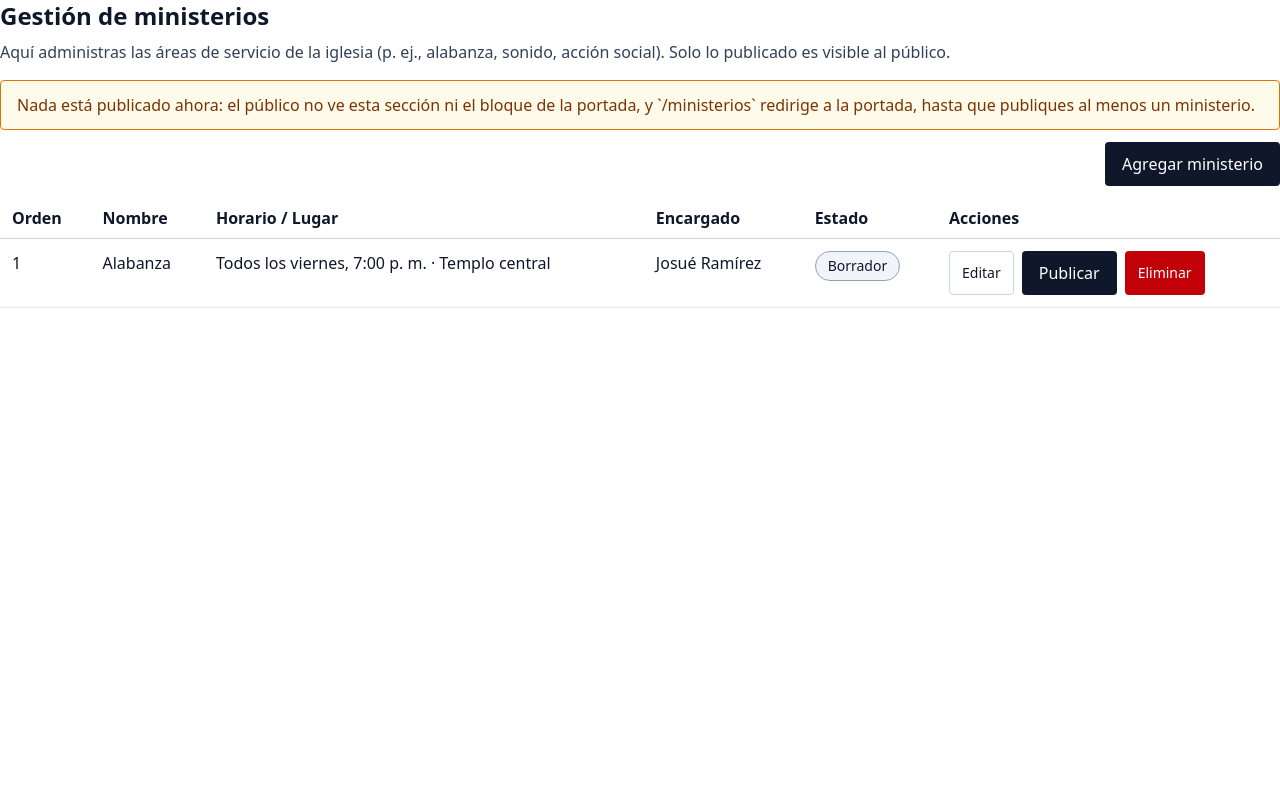
Test: MinistriesPage · listado del panel (US2/US3, ux.md §4.3) › publica y retira con confirmación suave, con sus mensajes
This screenshot has width=1280, height=800.
// La `Table` pinta tabla (escritorio) y tarjetas (móvil): se opera la tabla.
Click the button "Publicar". click: (1069, 273)
box: [1022, 251, 1117, 295]
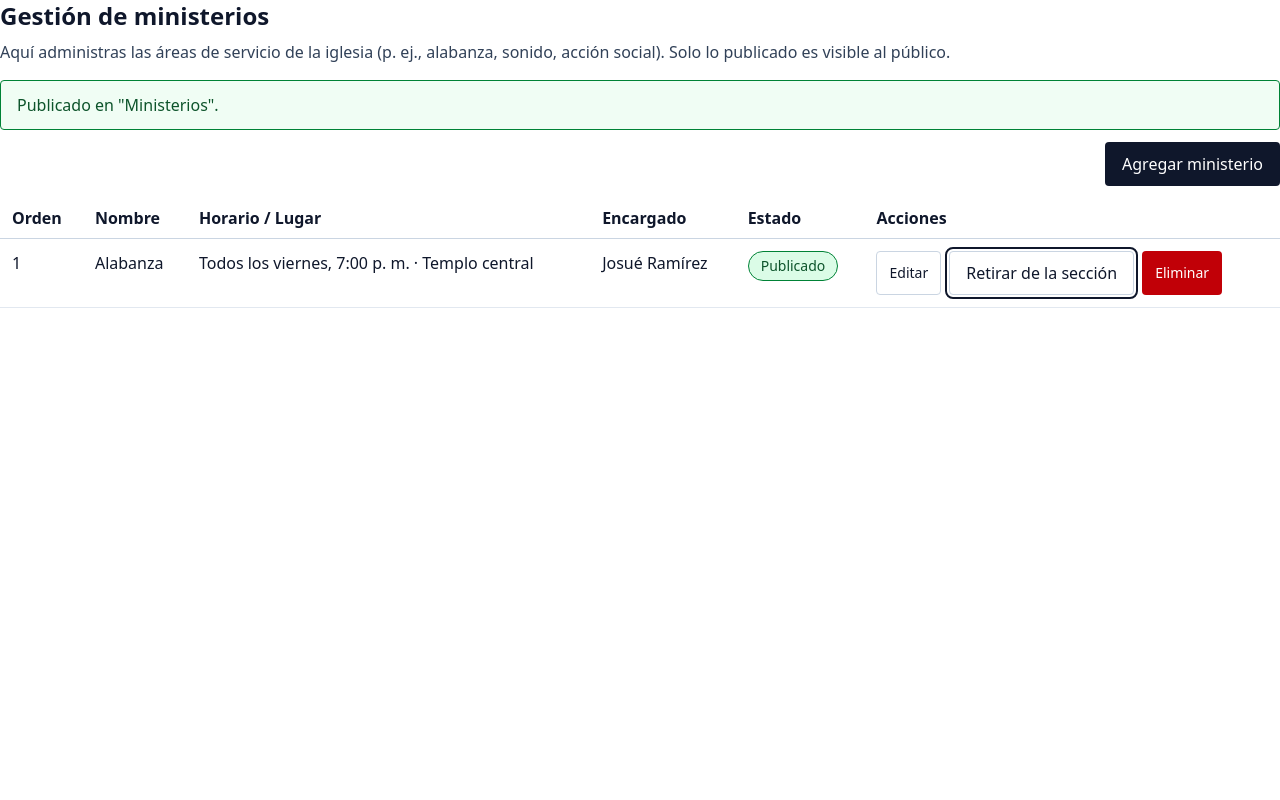
Check: the text "Publicado en \"Ministerios\"." is shown, box [0, 80, 1279, 130]
// Retirar pide confirmación suave (los datos se conservan).
Click the button "Retirar de la sección". click: (1042, 273)
box: [949, 251, 1134, 295]
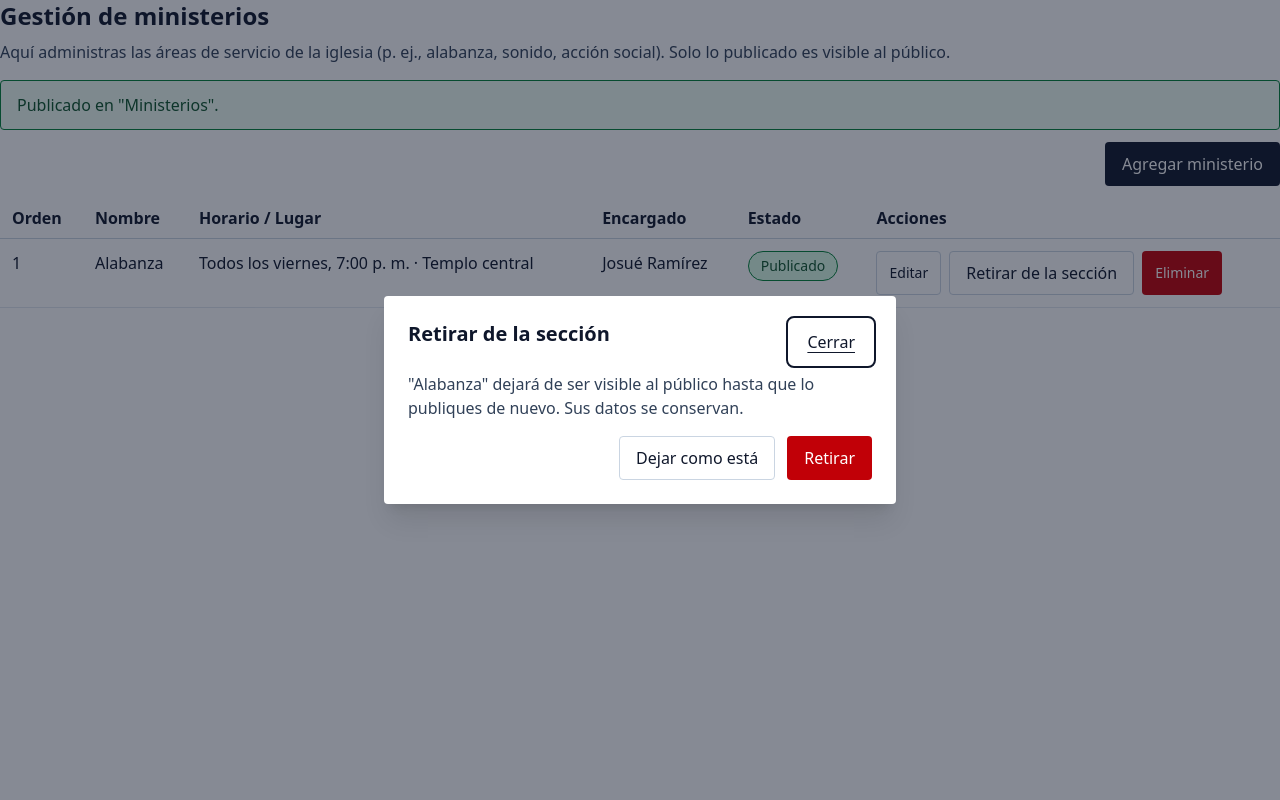
Check: the text "\"Alabanza\" dejará de ser visible al público hasta que lo publiques de nuevo. Sus datos se conservan." is shown, box [408, 373, 814, 419]
Click the button "Retirar". click: (830, 458)
box: [787, 436, 872, 480]
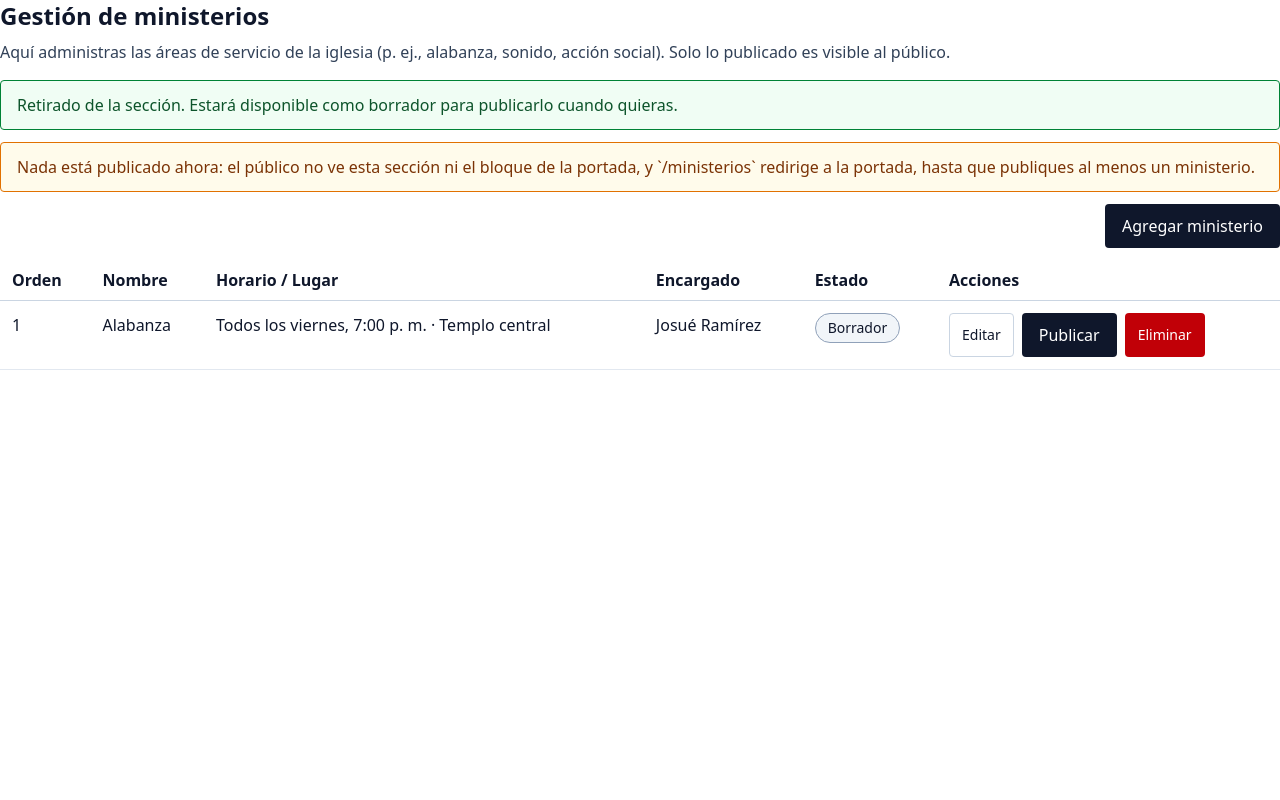
Check: the text "Retirado de la sección. Estará disponible como borrador para publicarlo cuando quieras." is shown, box [17, 94, 678, 116]
